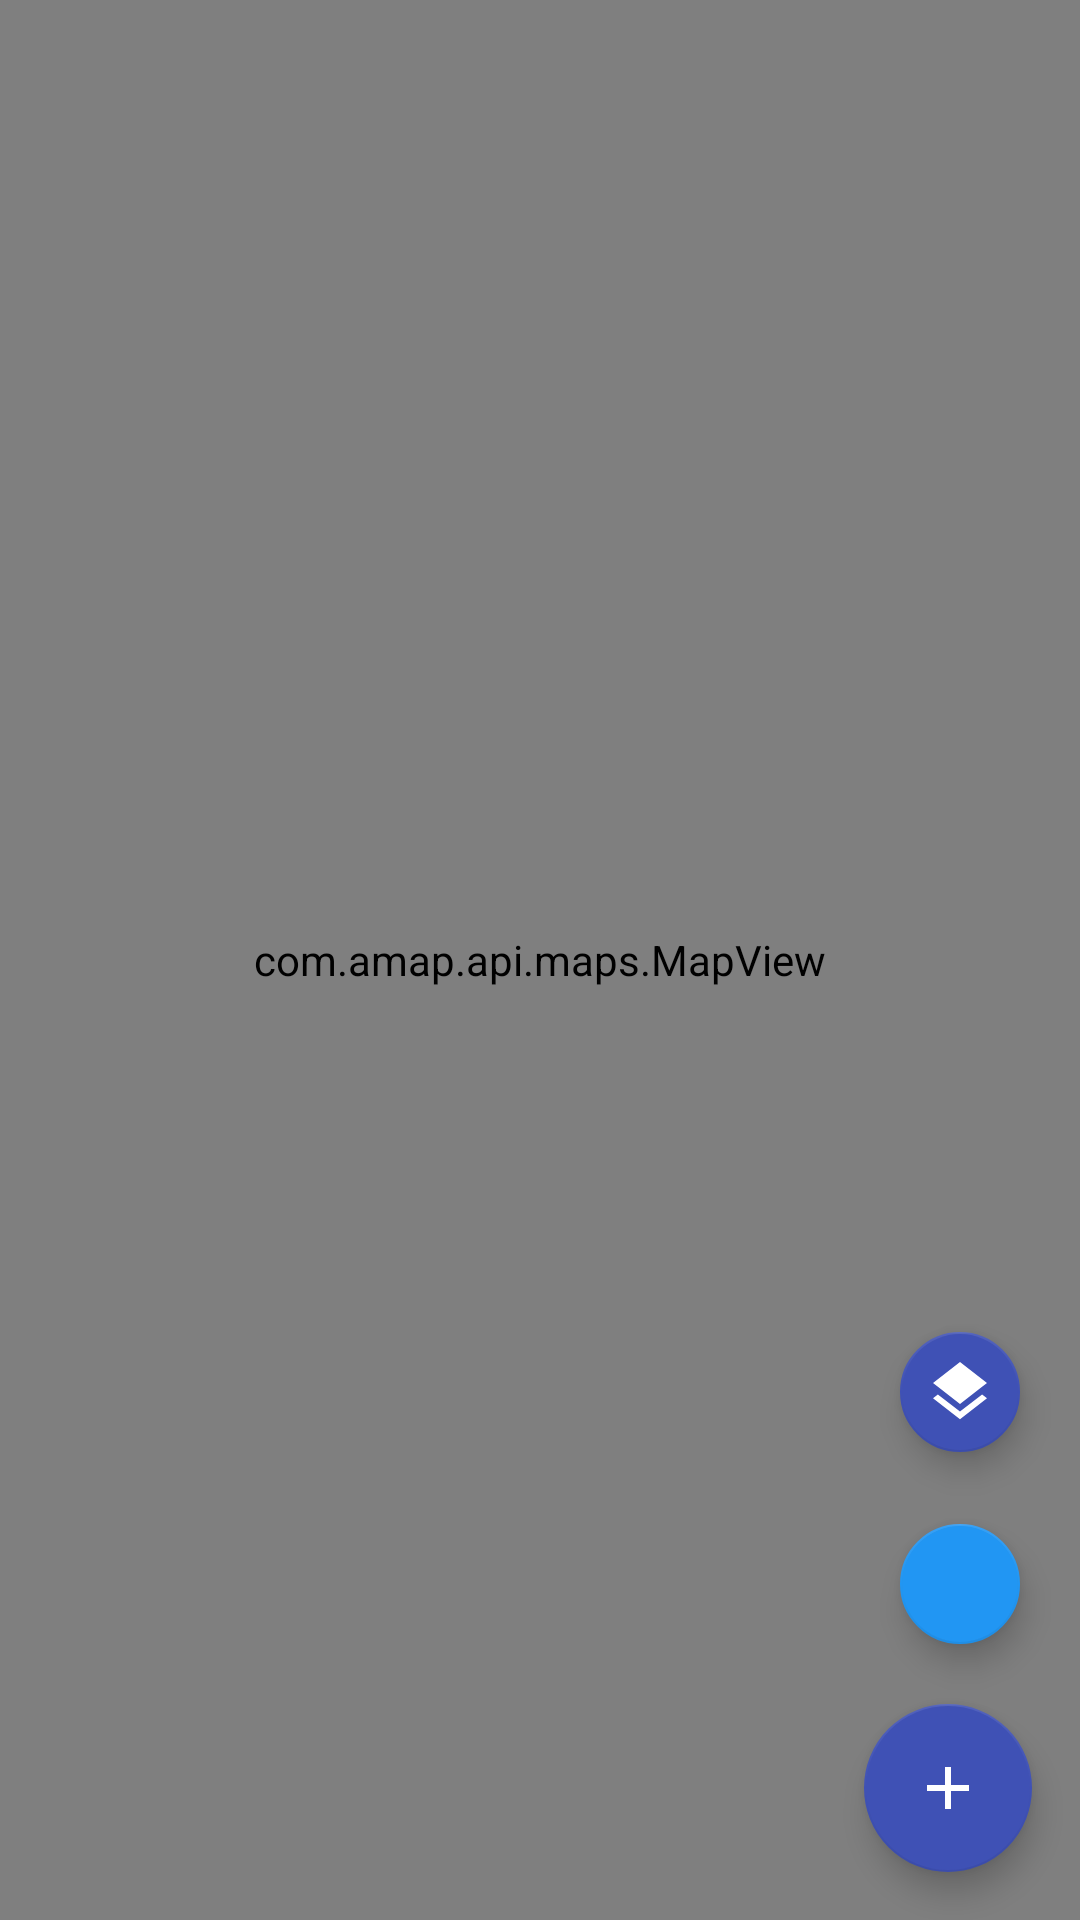

Screen size 1080px×1920px. Icon name, then its center in pixels as point (x, y):
地图类型: point (960, 1392)
添加足迹: point (948, 1788)
